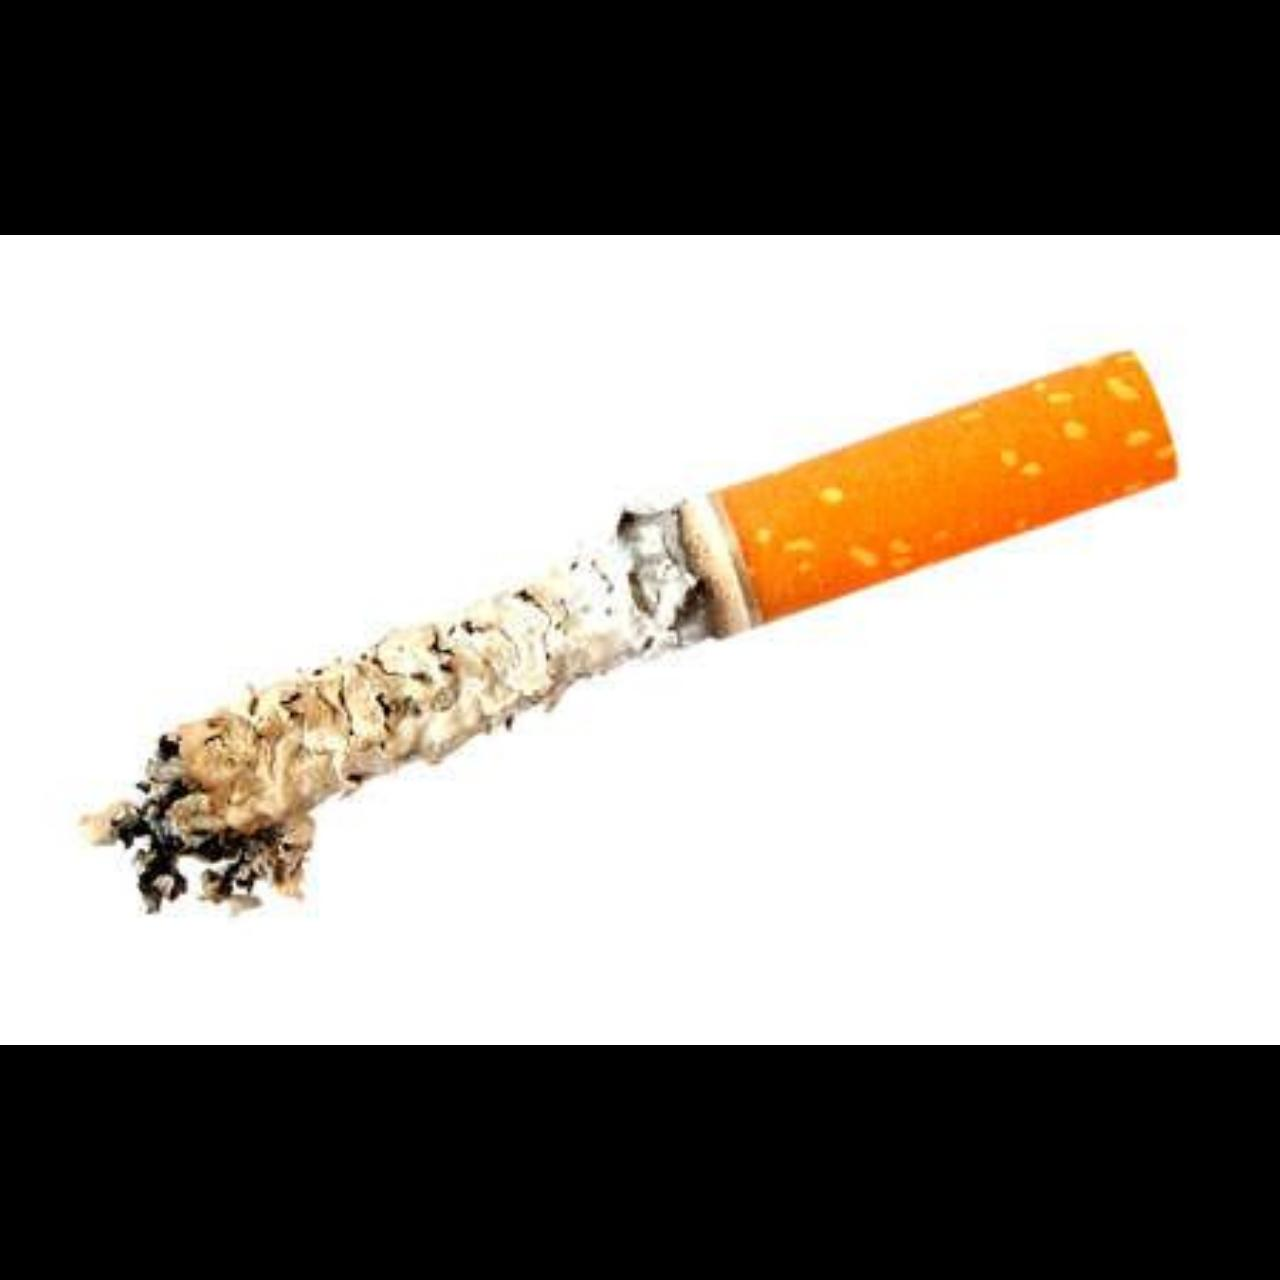cigarettes_butts: (80, 352, 1178, 919)
